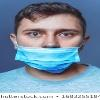Wore Mask Incorrectly: (14, 2, 90, 77)
